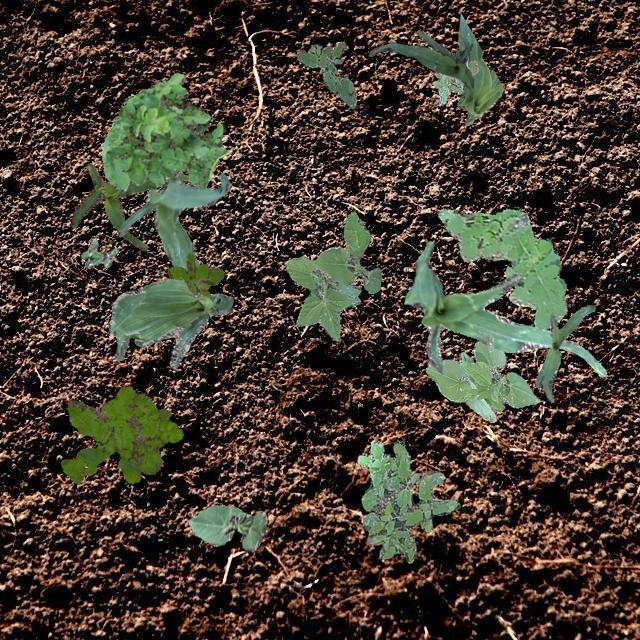crop: (404, 240, 606, 376), (116, 123, 230, 270), (108, 278, 232, 368), (70, 162, 188, 250), (424, 339, 538, 422), (368, 29, 472, 88), (534, 304, 594, 400), (457, 12, 502, 124), (187, 504, 266, 550), (225, 506, 242, 540)
weed: (436, 208, 566, 328), (100, 72, 228, 190), (356, 438, 458, 562), (286, 210, 380, 340), (59, 384, 182, 482), (296, 41, 356, 108), (166, 252, 222, 296), (432, 59, 477, 104), (80, 236, 118, 266)
